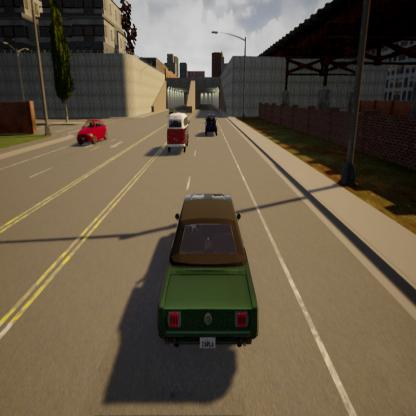Cars: (149, 186, 265, 359), (157, 108, 196, 155), (74, 116, 110, 152), (204, 113, 221, 138)
